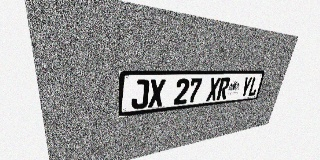2: (174, 78, 190, 105)
7: (187, 78, 202, 103)
J: (131, 79, 149, 110)
L: (247, 77, 260, 96)
R: (216, 77, 231, 100)
X: (148, 79, 166, 108), (206, 78, 221, 101)
Y: (239, 77, 253, 97)
